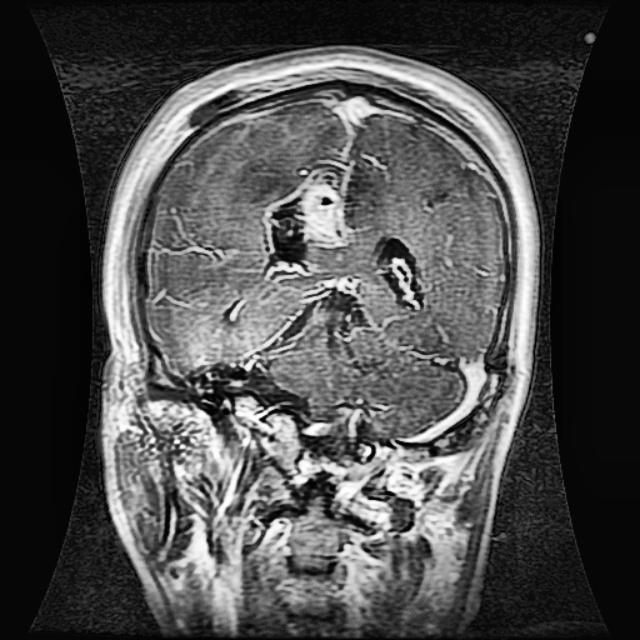Glioma: (263, 157, 358, 274)
